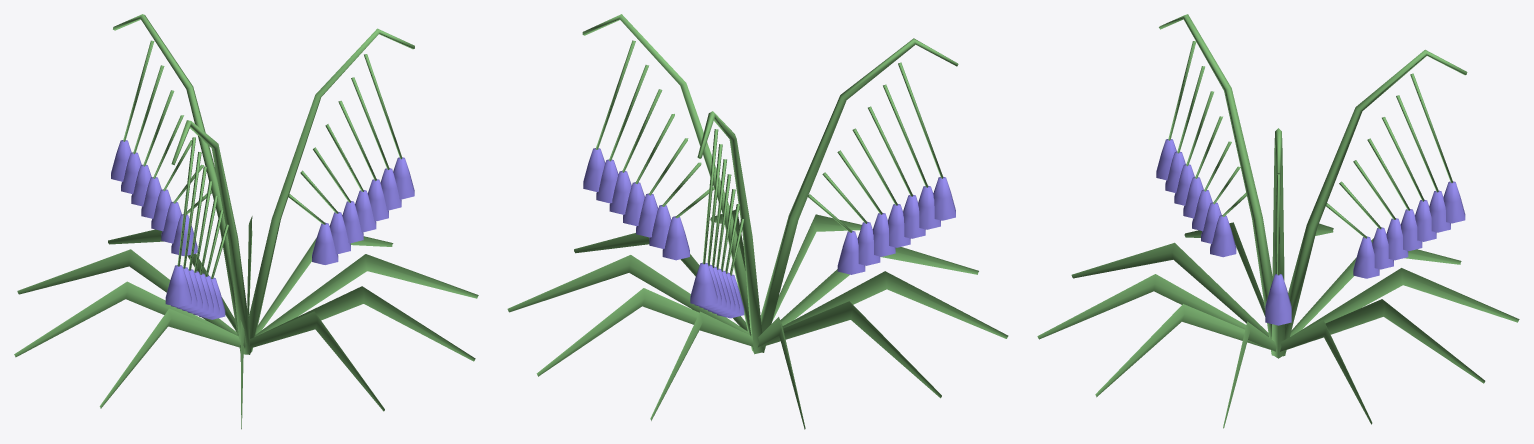
File: flower_bluebell.glb
3 renders of one model, left to right at view 1: azimuth 30°, elevation 25°; view 2: azimuth 150°, elevation 25°; view 3: azimuth 270°, elevation 25°, orthographic. The views are drawn at different scales.
Visible parts, largest first — view 1: Flora_Bluebell; view 2: Flora_Bluebell; view 3: Flora_Bluebell.
Part boxes in pixels (bbox=[...]): Flora_Bluebell: bbox=[14, 14, 478, 429]; Flora_Bluebell: bbox=[507, 14, 1008, 429]; Flora_Bluebell: bbox=[1037, 14, 1519, 428].
Size of the model in its own units: 0.6839 by 0.4673 by 0.7001.
